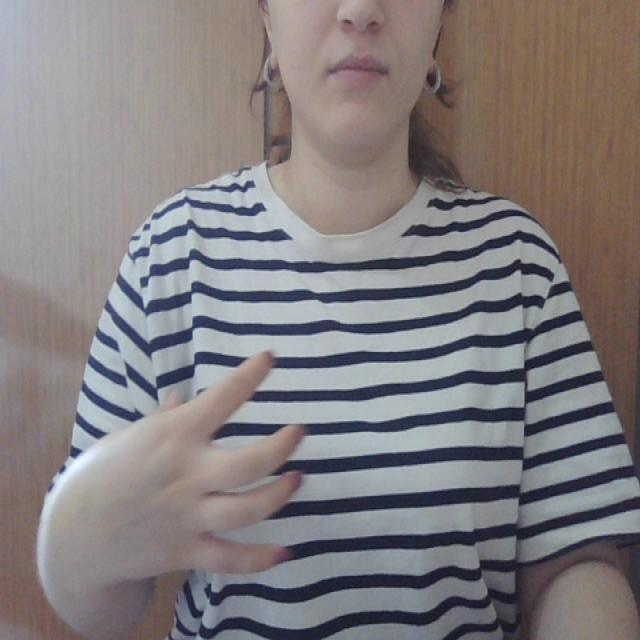Anne: (106, 344, 520, 596)
